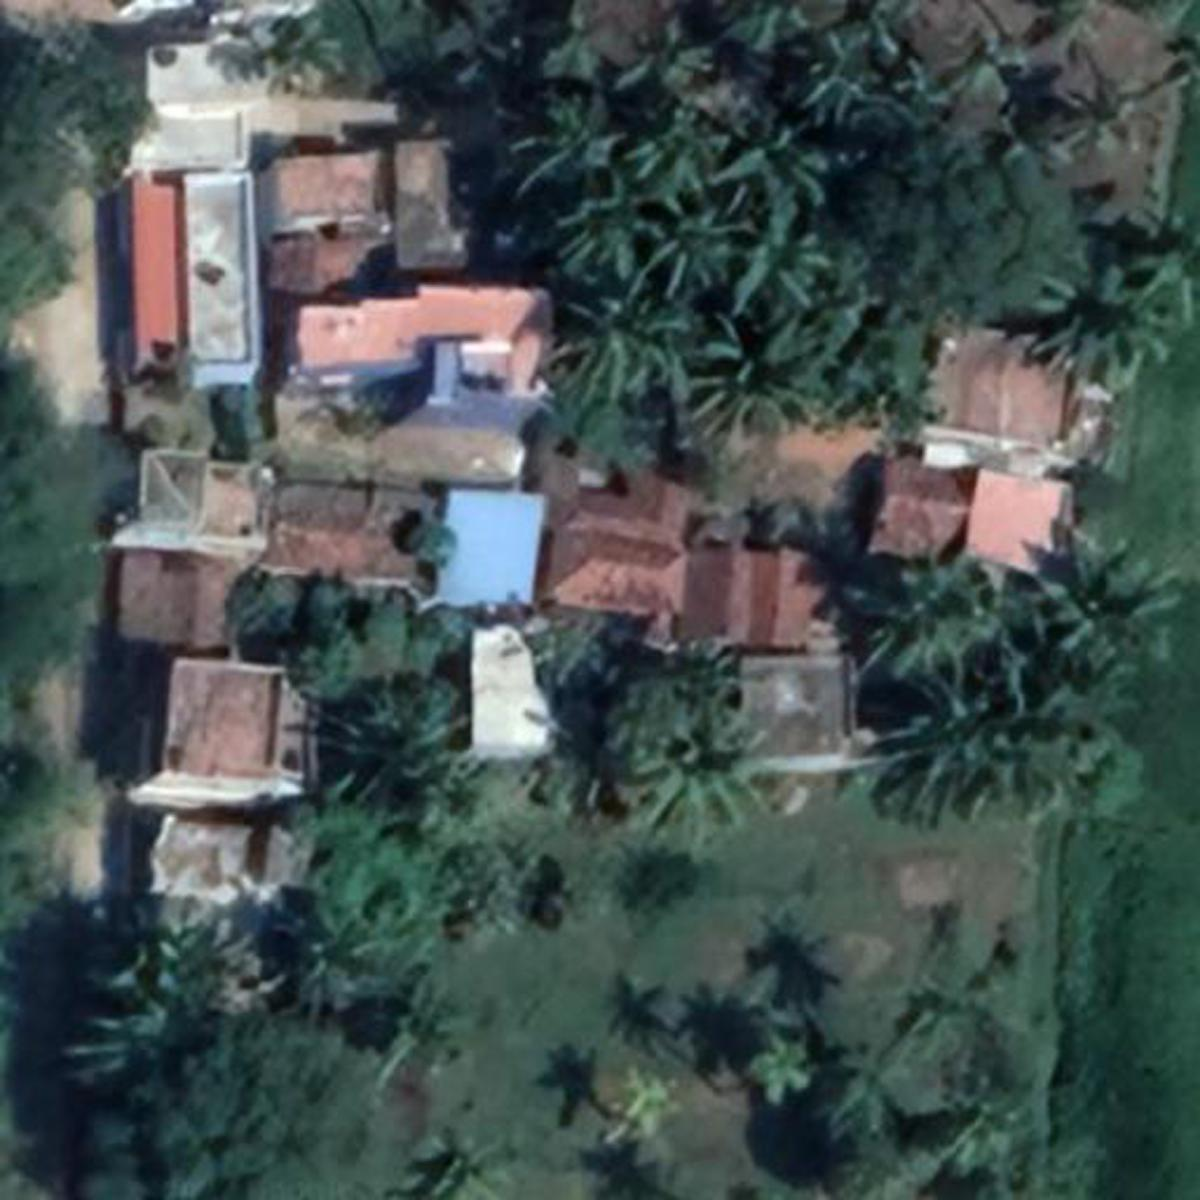coconut: (885, 670, 1027, 801), (1033, 541, 1176, 670), (625, 696, 757, 832), (555, 281, 689, 398), (335, 675, 454, 799), (691, 304, 799, 427), (726, 203, 834, 318), (1042, 281, 1149, 396), (569, 166, 670, 285), (710, 105, 816, 216), (516, 70, 627, 173), (630, 91, 738, 195), (1110, 205, 1200, 318), (799, 27, 897, 127), (651, 196, 740, 302), (630, 14, 733, 103), (398, 1113, 501, 1200), (1064, 77, 1153, 171), (260, 9, 351, 98), (740, 1016, 825, 1108), (951, 16, 1033, 105), (602, 1066, 673, 1146)
